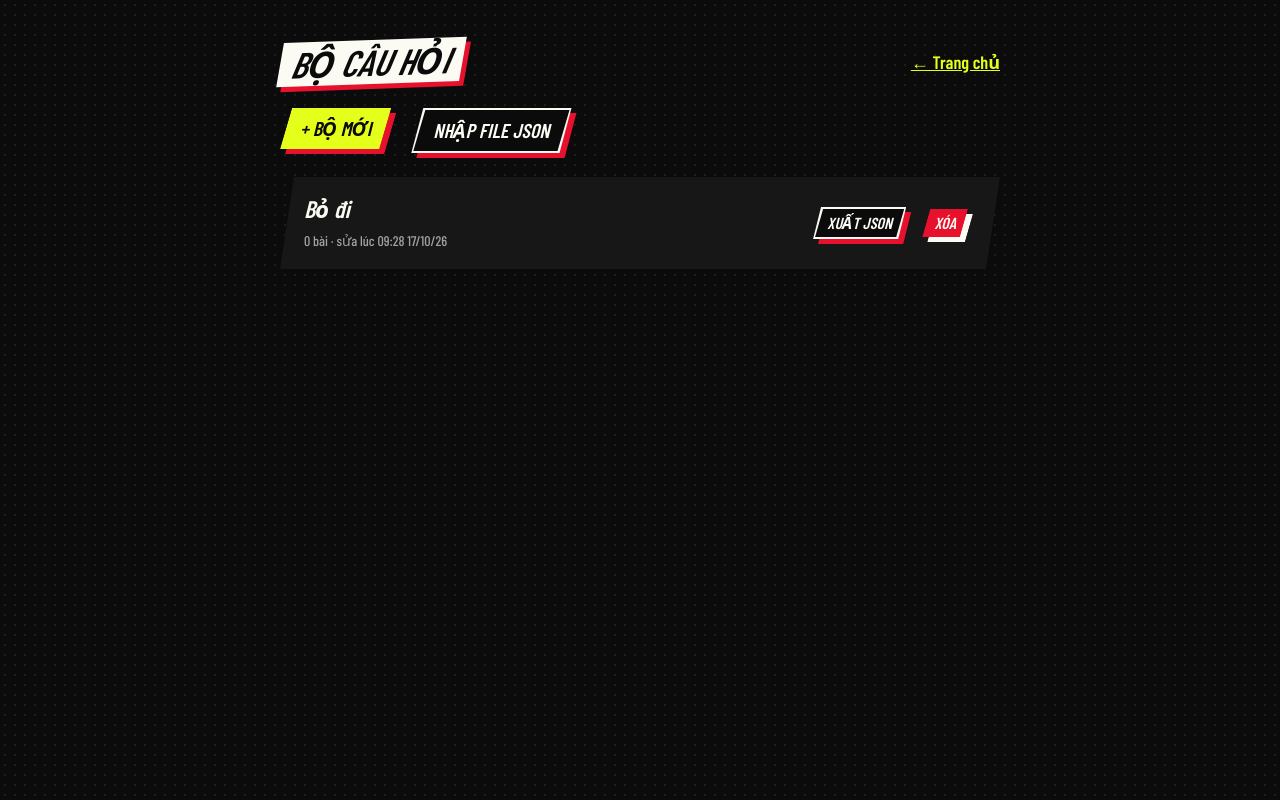
Test: SetList › deletes a set after confirmation
The width and height of the screenshot is (1280, 800).
Click the button with aria-label "Xóa Bỏ đi": coordinates (945, 223) [922,209,968,237]
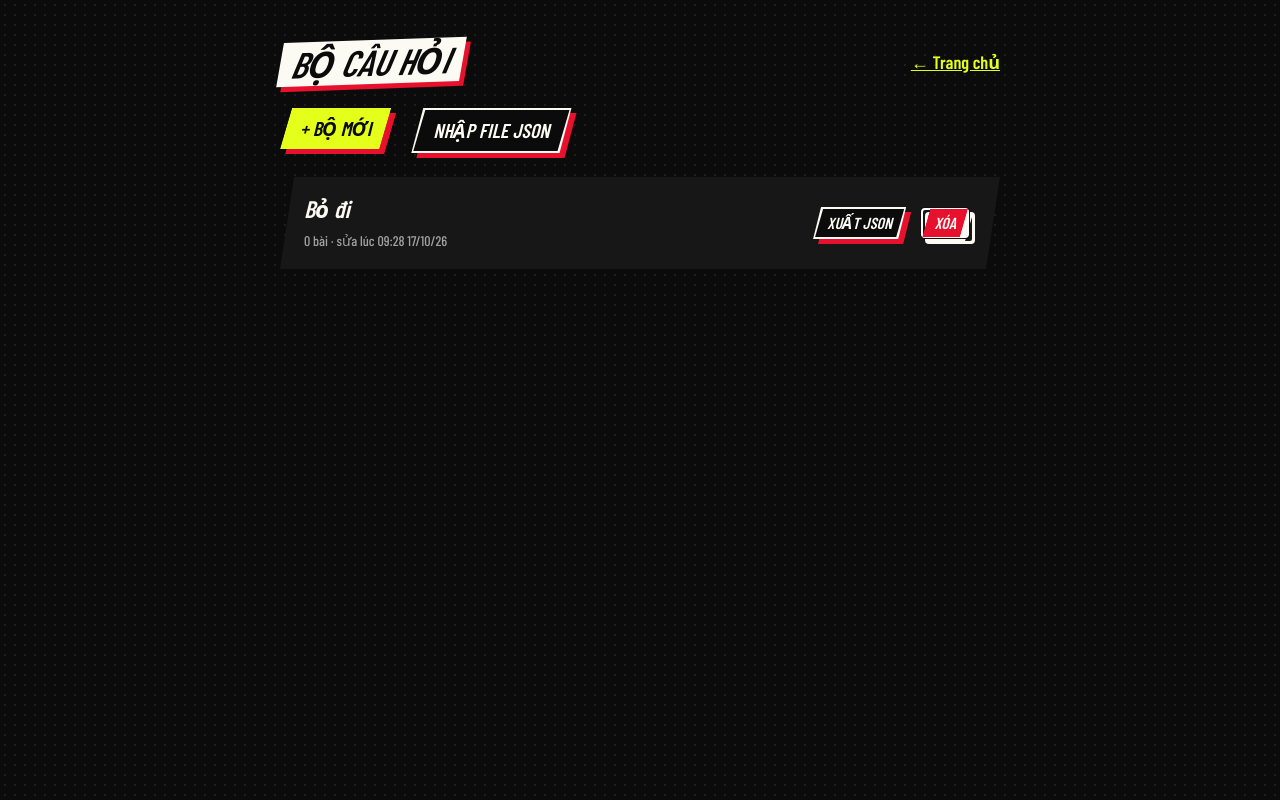
expect the link "Bỏ đi" is shown: met, box [304,194,350,223]
Click the button with aria-label "Xóa Bỏ đi": coordinates (945, 223) [922,209,968,237]
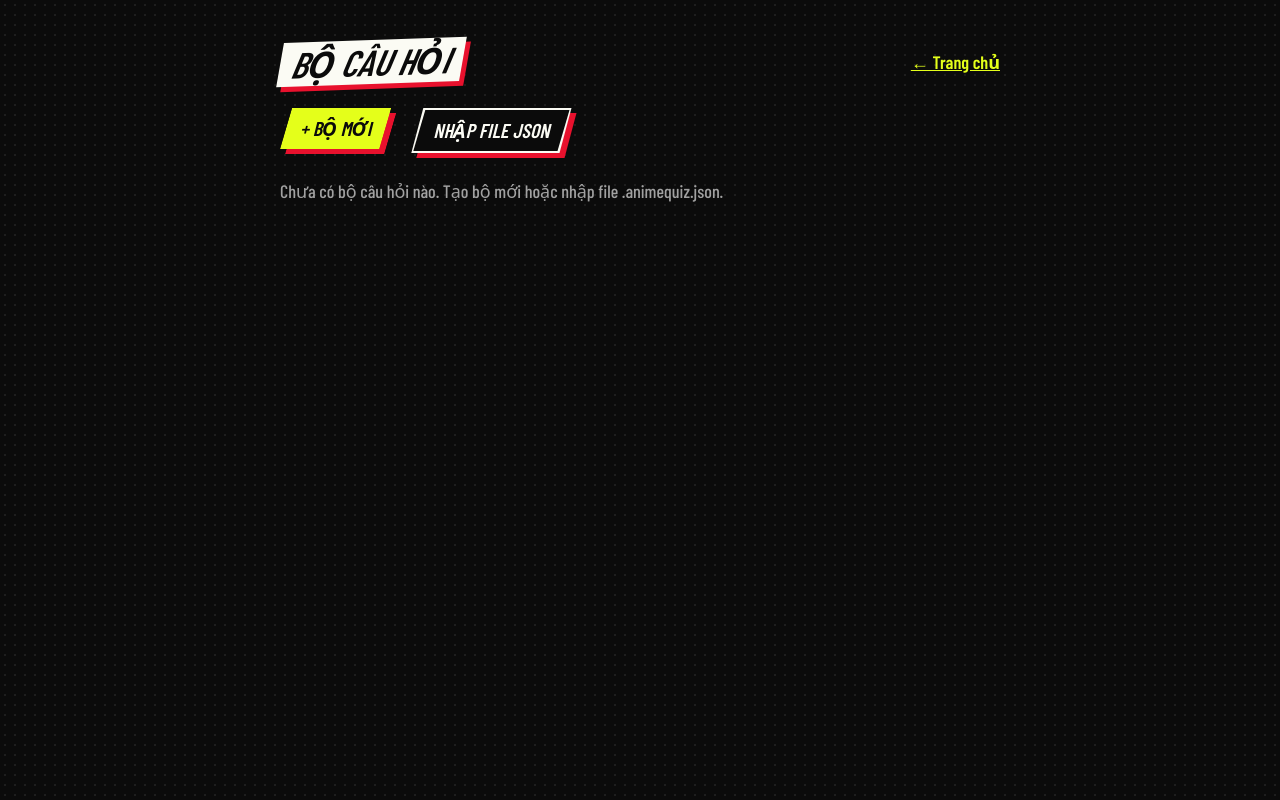
expect the link "Bỏ đi" is gone: met
